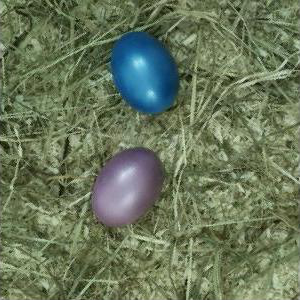egg: (91, 147, 165, 228), (112, 33, 180, 115)
